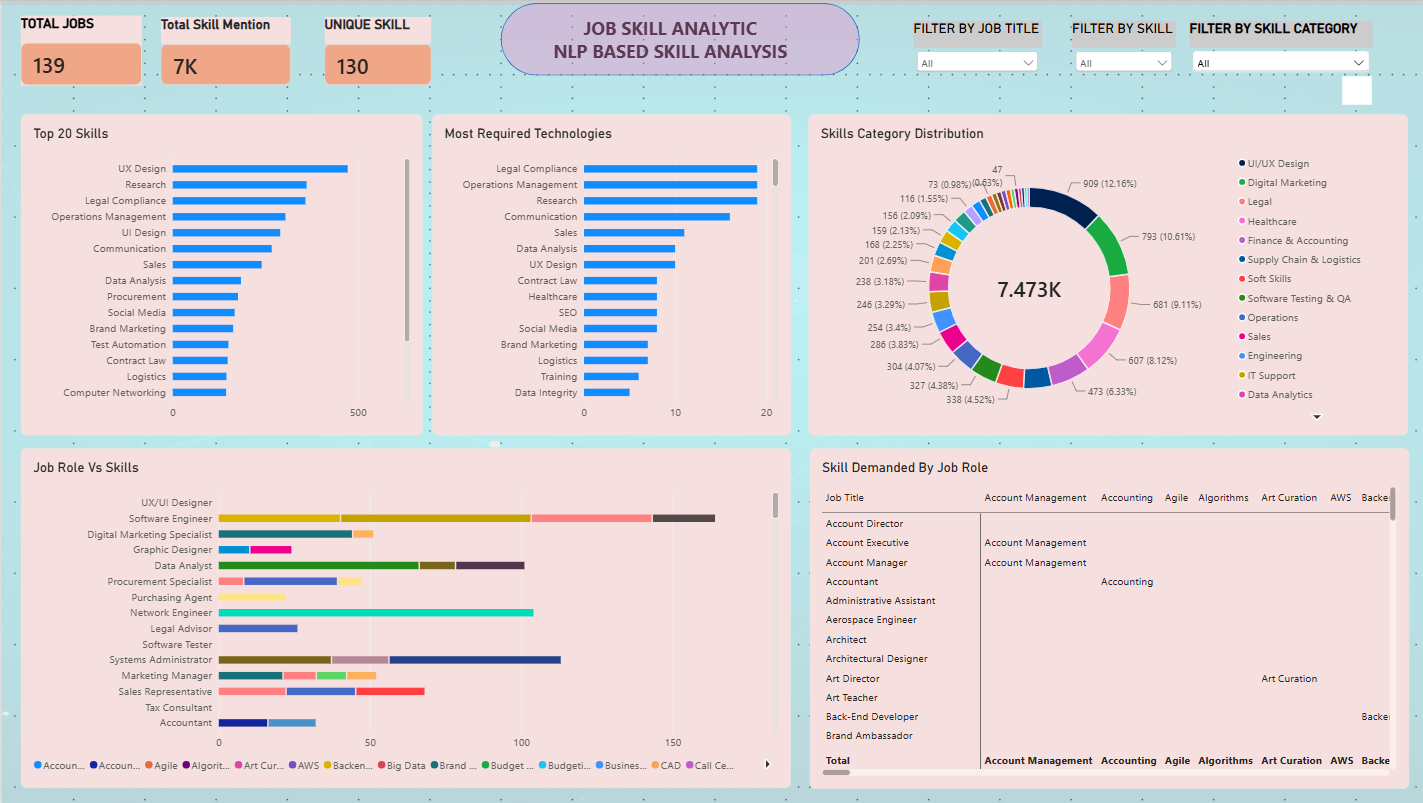

The page's visual inventory and layout, read from the dashboard file:
{"tool":"powerbi","page":{"name":"Page 1","canvas":[1920,1080],"ordinal":0},"visuals":[{"type":"image","box":[0,0,1920,1081],"z":0},{"type":"cardVisual","title":"TOTAL JOBS","fields":{"Data":["job_skill_dashboard_data.Total Jobs"]},"box":[25.4,16.3,163,94.2],"z":1000},{"type":"cardVisual","title":"Total Skill Mention","fields":{"Data":["job_skill_dashboard_data.Total Skill Mentions"]},"box":[213.7,18.1,175.3,91.8],"z":2000},{"type":"cardVisual","title":"UNIQUE SKILL","fields":{"Data":["job_skill_dashboard_data.Unique Skills"]},"box":[434.7,18.1,144,91.8],"z":3000},{"type":"clusteredBarChart","title":"Top 20 Skills","fields":{"Category":["job_skill_dashboard_data.Skills"],"Y":["CountNonNull(job_skill_dashboard_data.Skills)"]},"box":[25.4,150.3,541.6,432.9],"z":4000},{"type":"donutChart","title":"Skills Category Distribution","fields":{"Category":["job_skill_dashboard_data.Skills Category"],"Y":["CountNonNull(job_skill_dashboard_data.Skills)"]},"box":[1086.8,150.3,807.8,432.9],"z":5000},{"type":"pivotTable","title":"Skill Demanded By Job Role","fields":{"Columns":["job_skill_dashboard_data.Skills"],"Rows":["job_skill_dashboard_data.Job Title"],"Values":["Min(job_skill_dashboard_data.Skills)"]},"box":[1087.3,599,807.7,459.1],"z":6000},{"type":"barChart","title":"Job Role Vs Skills","fields":{"Category":["job_skill_dashboard_data.Job Title"],"Series":["job_skill_dashboard_data.Skills"],"Y":["CountNonNull(job_skill_dashboard_data.Skills)"]},"box":[25.4,599.5,1037.9,458.3],"z":7000},{"type":"barChart","title":"Most Required Technologies","fields":{"Category":["job_skill_dashboard_data.Skills"],"Y":["job_skill_dashboard_data.Total Jobs"]},"box":[579.6,150.3,483.6,432.9],"z":8000},{"type":"slicer","title":"FILTER BY JOB TITLE","fields":{"Values":["job_skill_dashboard_data.Job Title"]},"box":[1227.1,23,173.2,85.6],"z":9000},{"type":"textbox","box":[711.7,16.7,375.7,108.5],"z":10000},{"type":"slicer","title":"FILTER BY SKILL","fields":{"Values":["job_skill_dashboard_data.Skills"]},"box":[1442.1,23,139.8,106.4],"z":11000},{"type":"slicer","title":"FILTER BY SKILL CATEGORY","fields":{"Values":["job_skill_dashboard_data.Skills Category"]},"box":[1600.7,23,246.3,75.1],"z":12000},{"type":"shape","box":[672,0,483.6,97.8],"z":13000}]}

Visuals, with their boxes in screenshot pixels (x1, y1, x2, y2), scaled from the page's 1920x1080 canvas onto the 1423x803 screenshot:
image: region(0, 0, 1422, 802)
"TOTAL JOBS" cardVisual: region(19, 12, 140, 82)
"Total Skill Mention" cardVisual: region(158, 13, 288, 82)
"UNIQUE SKILL" cardVisual: region(322, 13, 429, 82)
"Top 20 Skills" clusteredBarChart: region(19, 112, 420, 434)
"Skills Category Distribution" donutChart: region(805, 112, 1404, 434)
"Skill Demanded By Job Role" pivotTable: region(806, 445, 1404, 787)
"Job Role Vs Skills" barChart: region(19, 446, 788, 786)
"Most Required Technologies" barChart: region(430, 112, 788, 434)
"FILTER BY JOB TITLE" slicer: region(909, 17, 1038, 81)
textbox: region(527, 12, 806, 93)
"FILTER BY SKILL" slicer: region(1069, 17, 1172, 96)
"FILTER BY SKILL CATEGORY" slicer: region(1186, 17, 1369, 73)
shape: region(498, 0, 856, 73)
